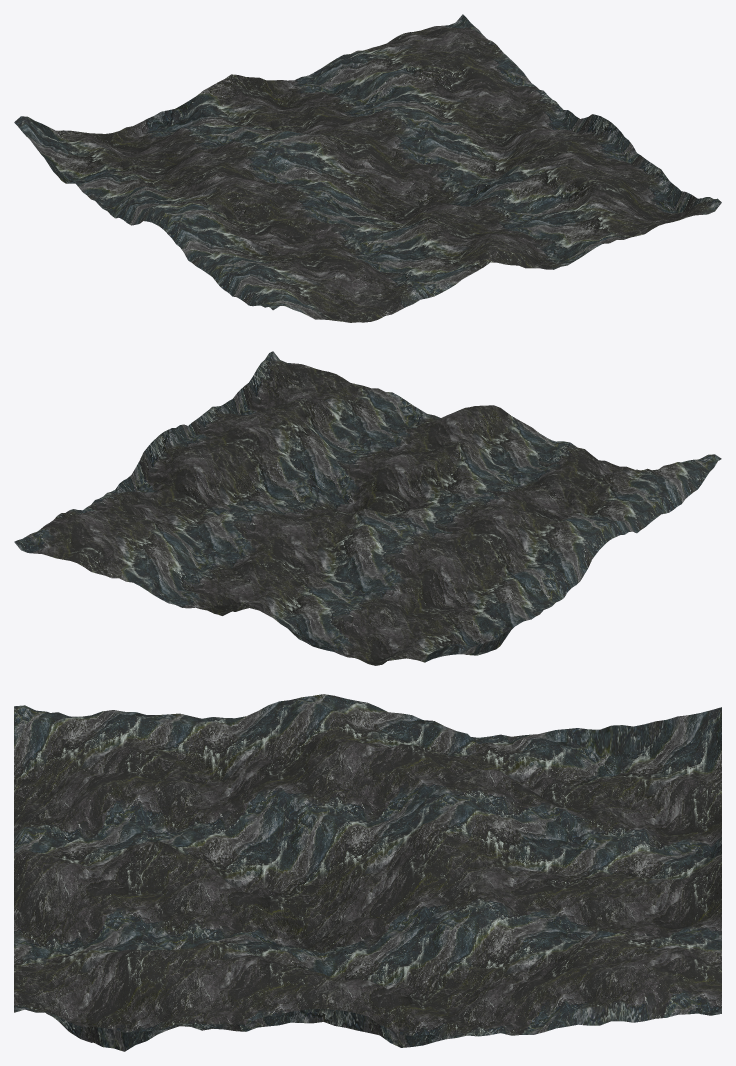
The model's file is Landscape.gltf.
The picture shows the model from 3 angles, top to bottom: view 1: azimuth 30°, elevation 25°; view 2: azimuth 150°, elevation 25°; view 3: azimuth 270°, elevation 25°; orthographic projection. The views are drawn at different scales.
Parts seen in each view (by area): view 1: Plane; view 2: Plane; view 3: Plane.
Part boxes in pixels (x1,y1,x2,y2): Plane: (14,14,721,322); Plane: (14,351,721,665); Plane: (14,694,721,1051).
Size of the model in its own units: 4 by 0.5266 by 4.
1 material, 1 textured.
